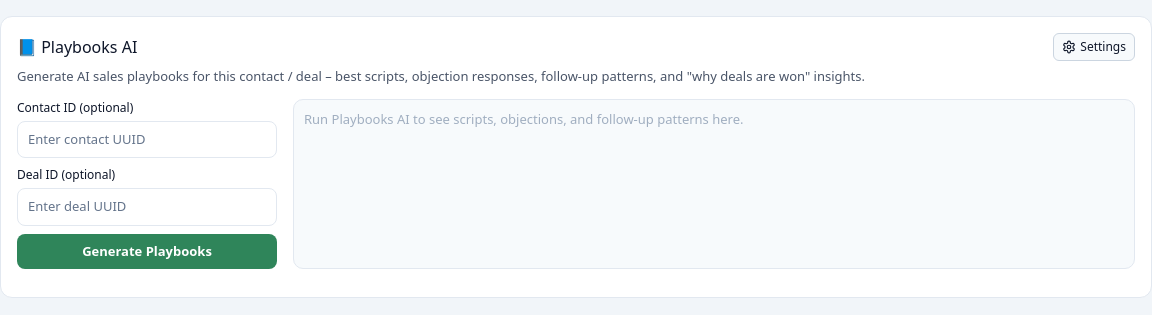
Test: PlaybooksPanel › List Rendering › should handle empty arrays gracefully
Step 1. Type "contact-456" into the field with placeholder "Enter contact UUID" → (147,139), box left=17, top=120, right=277, bottom=158
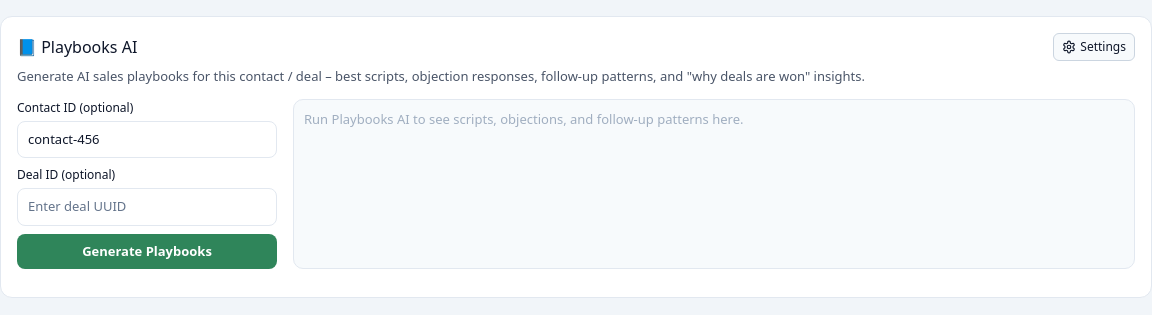
Step 2. Click the button "Generate Playbooks" → (147,251), box left=17, top=234, right=277, bottom=269
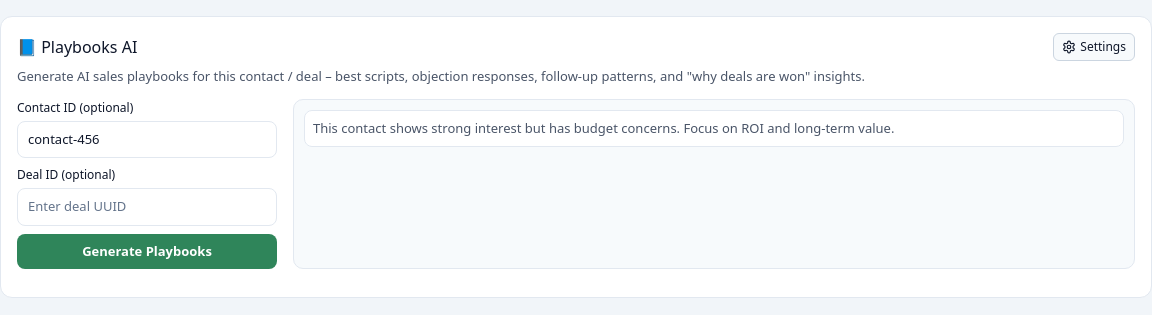
Expected: the text "This contact shows strong interest but has budget concerns. Focus on ROI and long-term value." is shown, left=313, top=118, right=894, bottom=136
